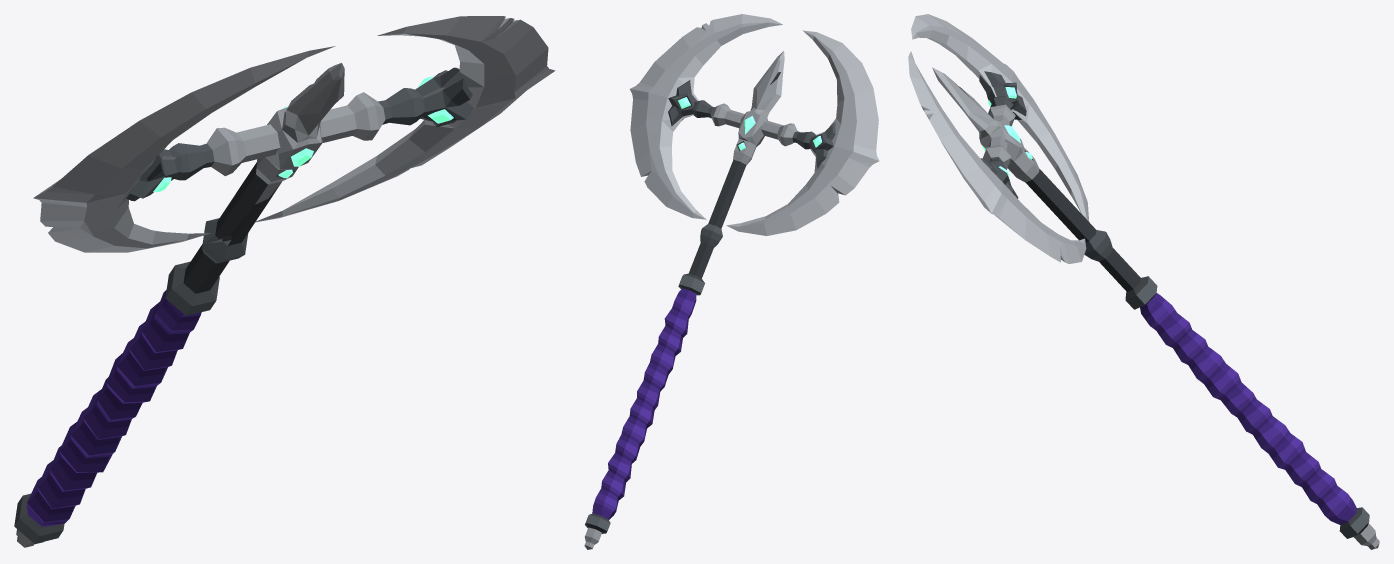
The model's file is er-axe-02.glb.
3 views of the same model, side by side, from view 1: azimuth 30°, elevation 25°; view 2: azimuth 150°, elevation 25°; view 3: azimuth 270°, elevation 25° (orthographic). The views are drawn at different scales.
Visible parts, largest first — view 1: er-axe-02; view 2: er-axe-02; view 3: er-axe-02.
Boxes of the visible parts, x1,y1,x2,y2 form: er-axe-02: [14, 16, 555, 547]; er-axe-02: [584, 14, 879, 549]; er-axe-02: [908, 14, 1379, 549].
Size of the model in its own units: 0.7437 by 1.1 by 0.9466.
1 material, 1 textured.
